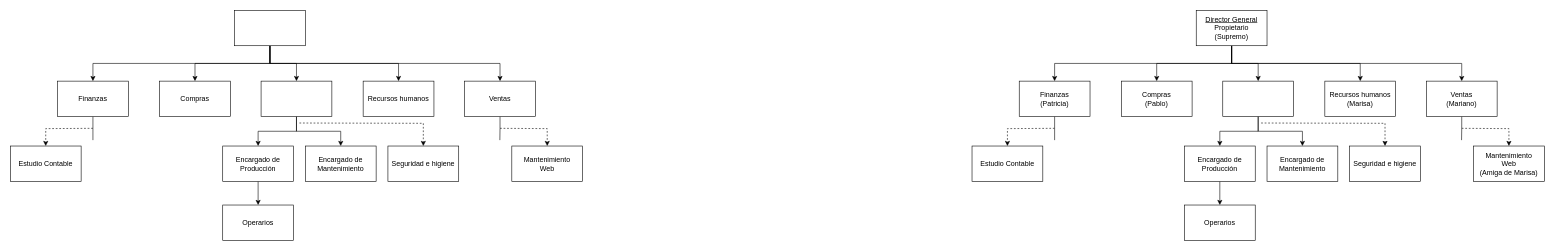
The diagram is 1555 pixels wide and 251 high, and some of its shapes have lost their labels. Here are the shapes that lost their labels. From the top down, the centre of each, then its label:
At point (269, 28): "Director General Propietario".
At point (296, 99): "Producción".
At point (1258, 99): "Producción (Leonardo)".
